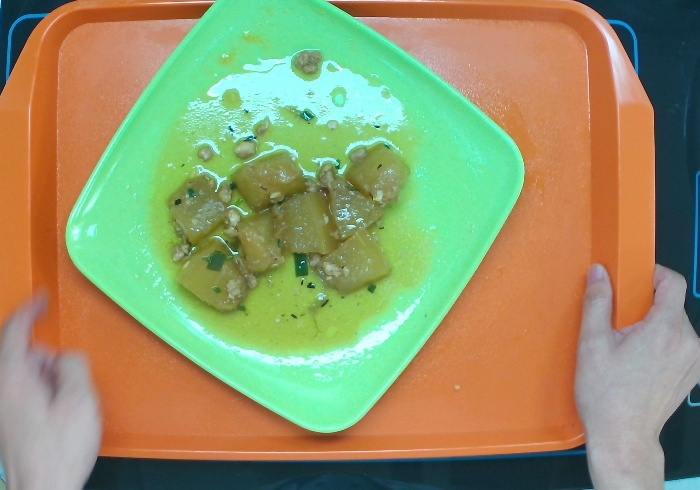ZNLD-Lv_Fang_Pan: (62, 1, 528, 437)
